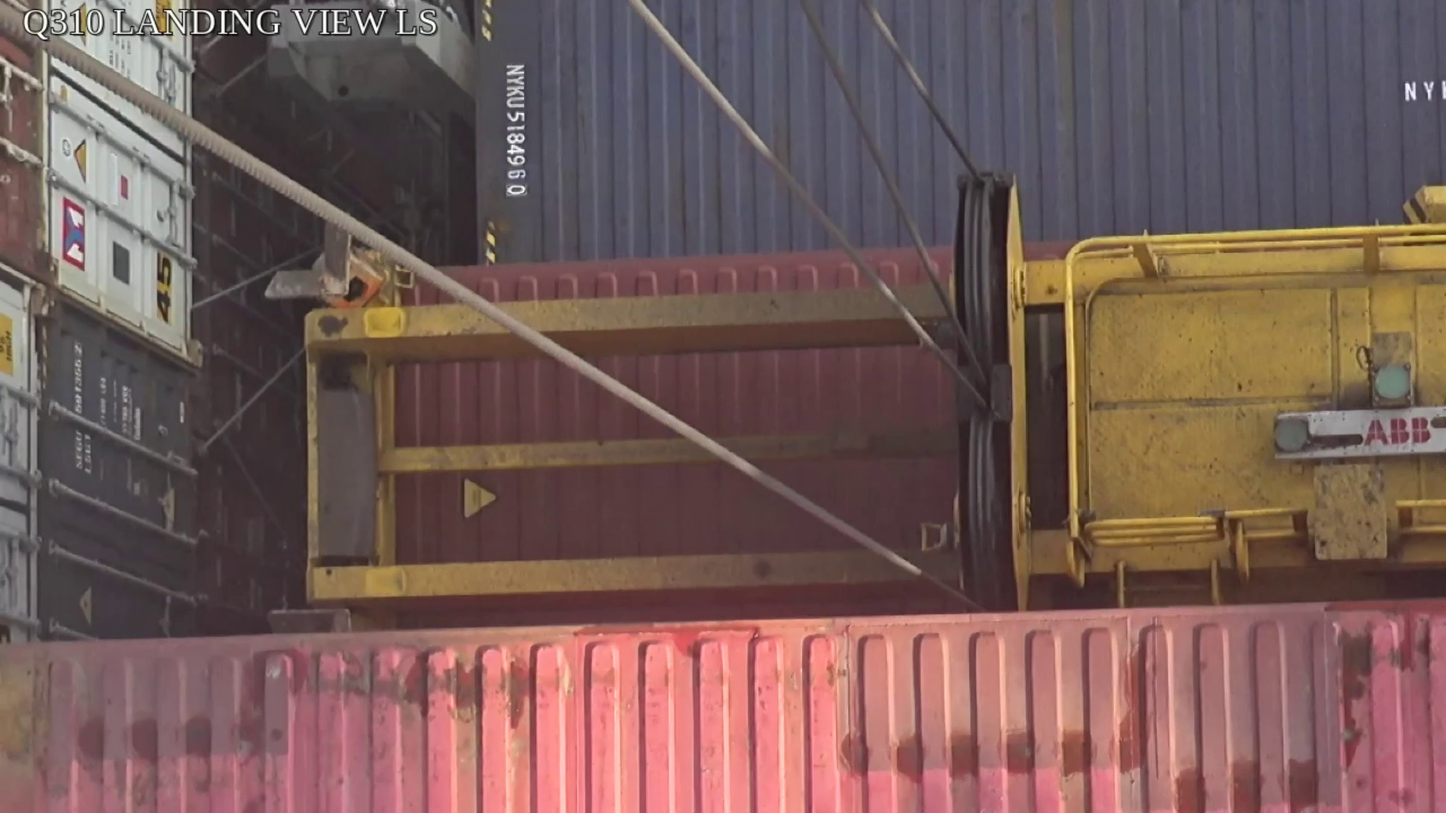aa: (947, 173, 1033, 615)
